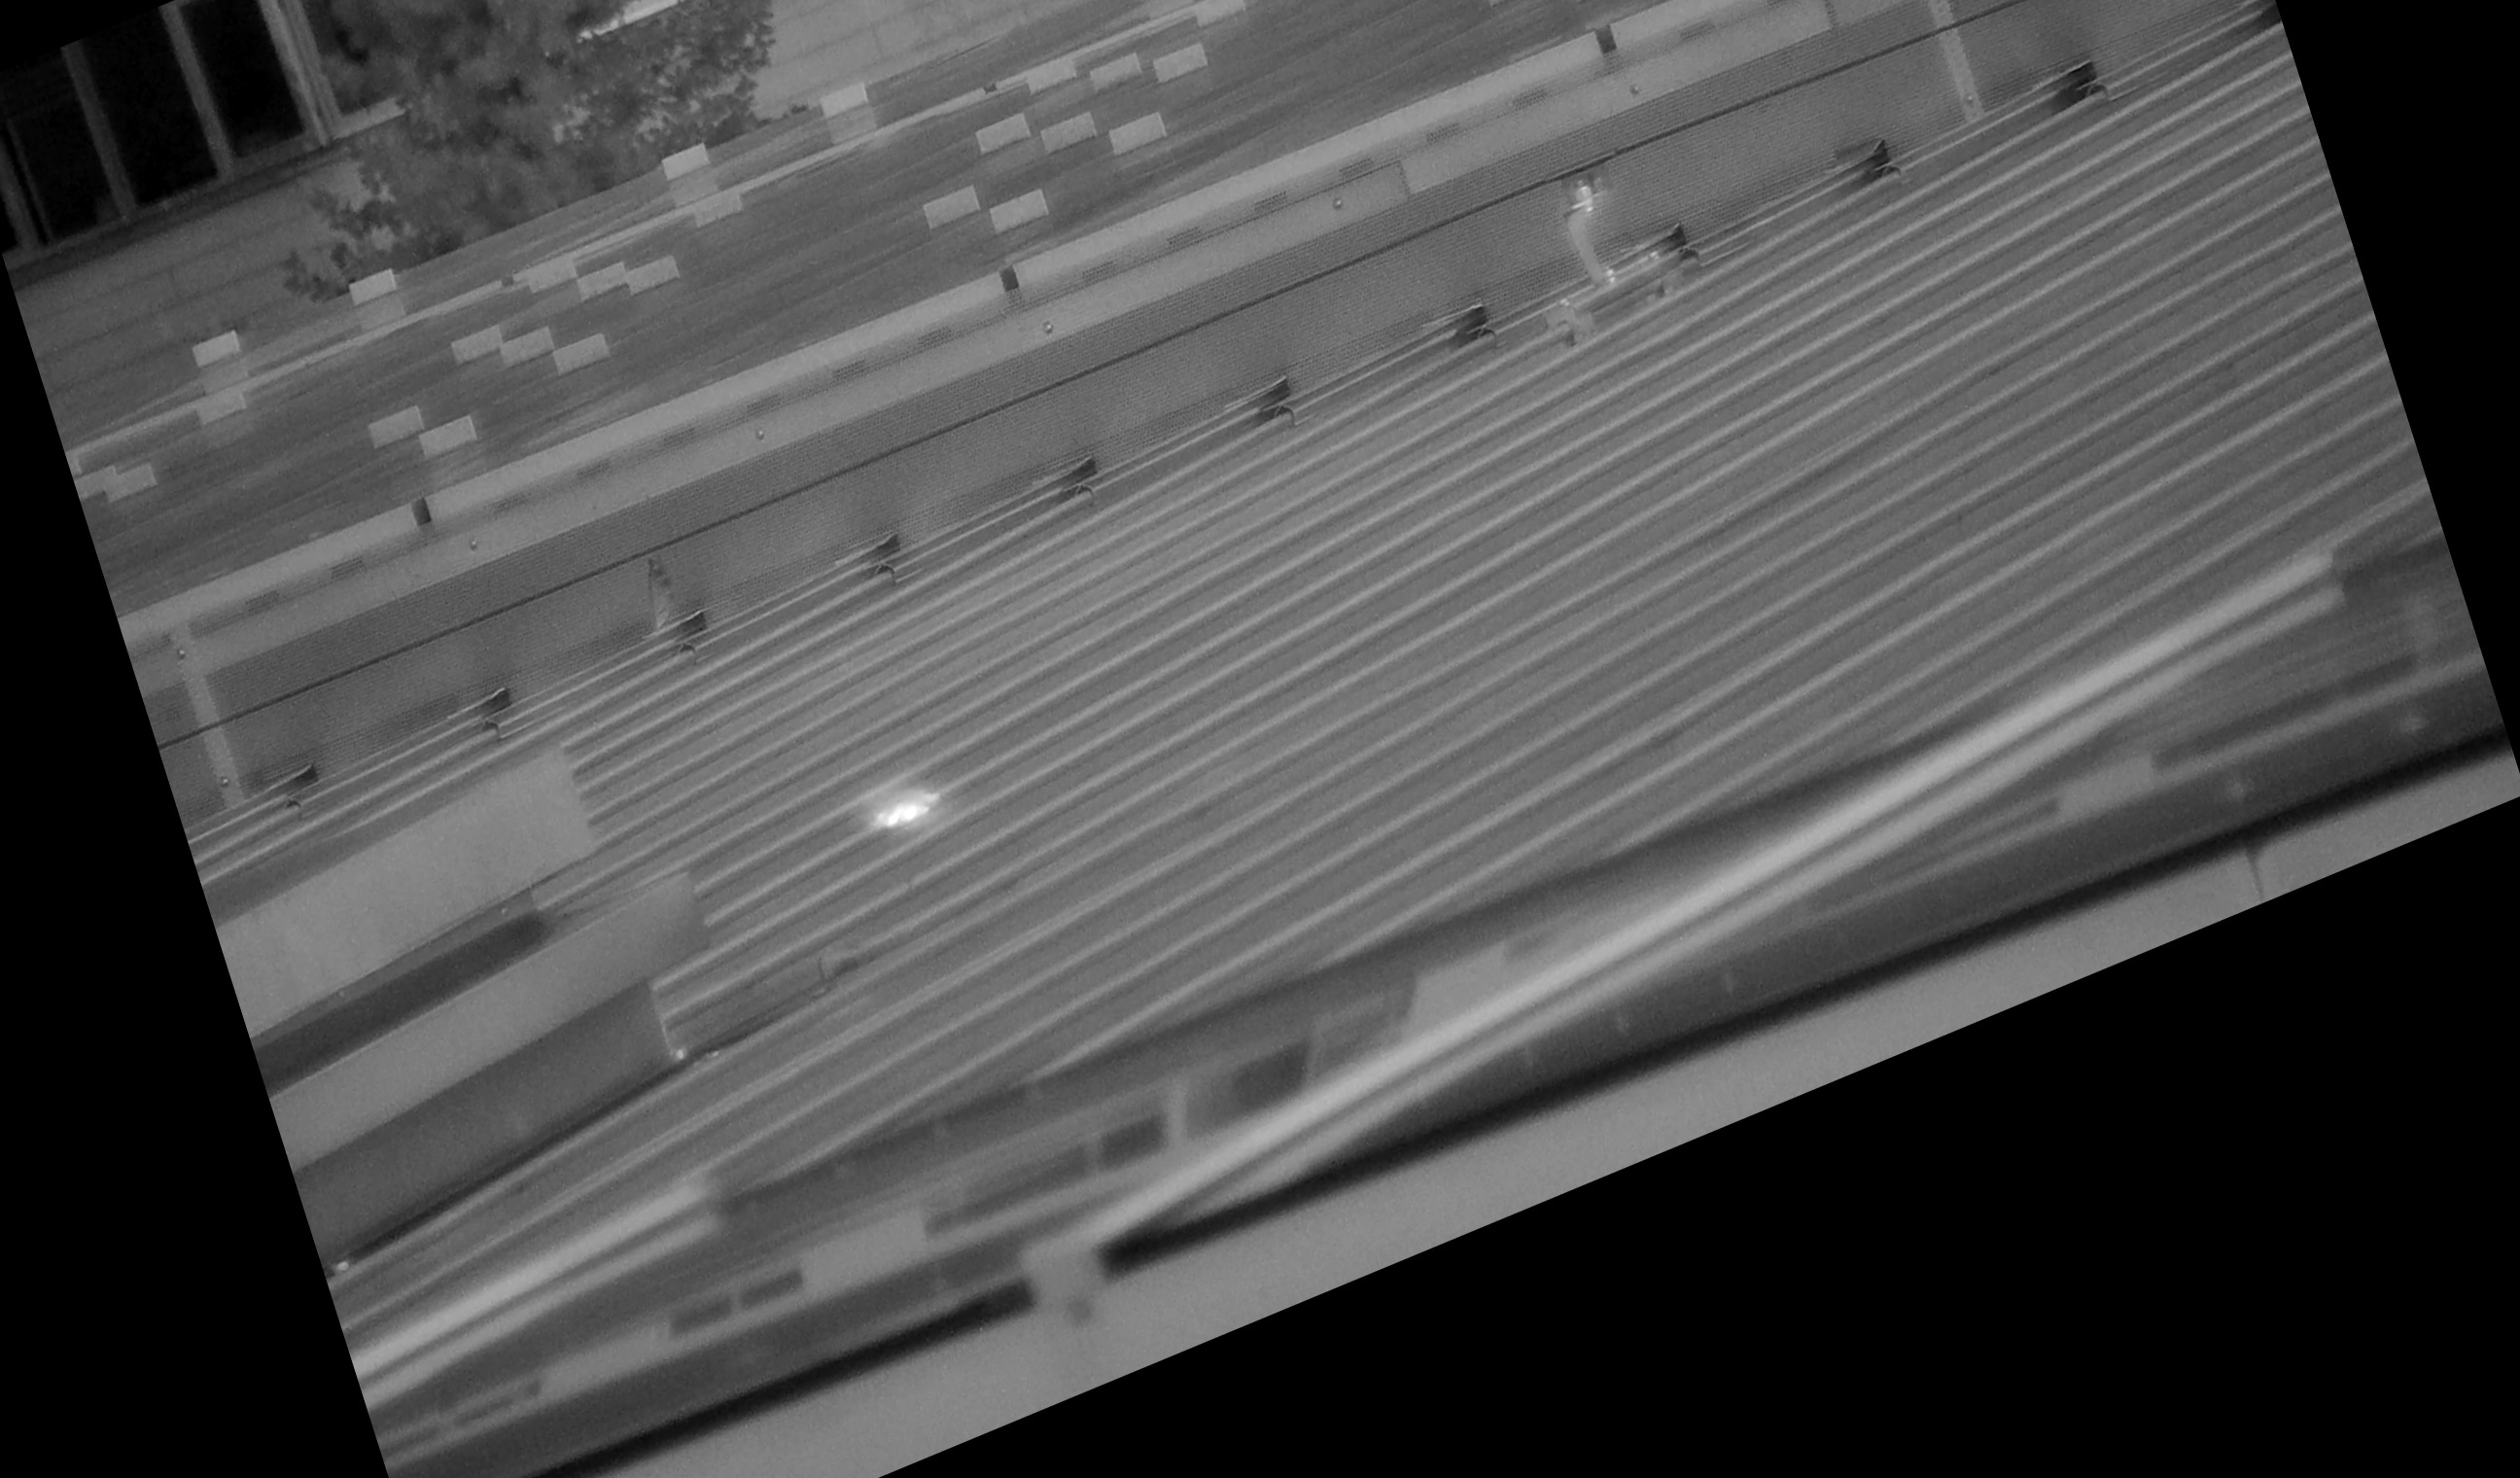Other: (617, 542, 712, 670)
